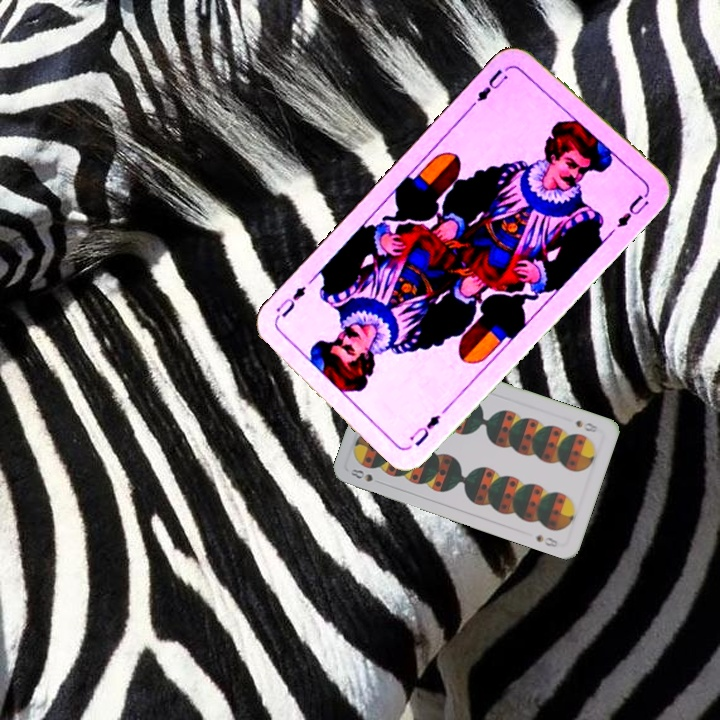EU: (472, 62, 513, 104), (405, 410, 444, 449)
S8: (572, 416, 602, 435), (346, 465, 375, 484)
